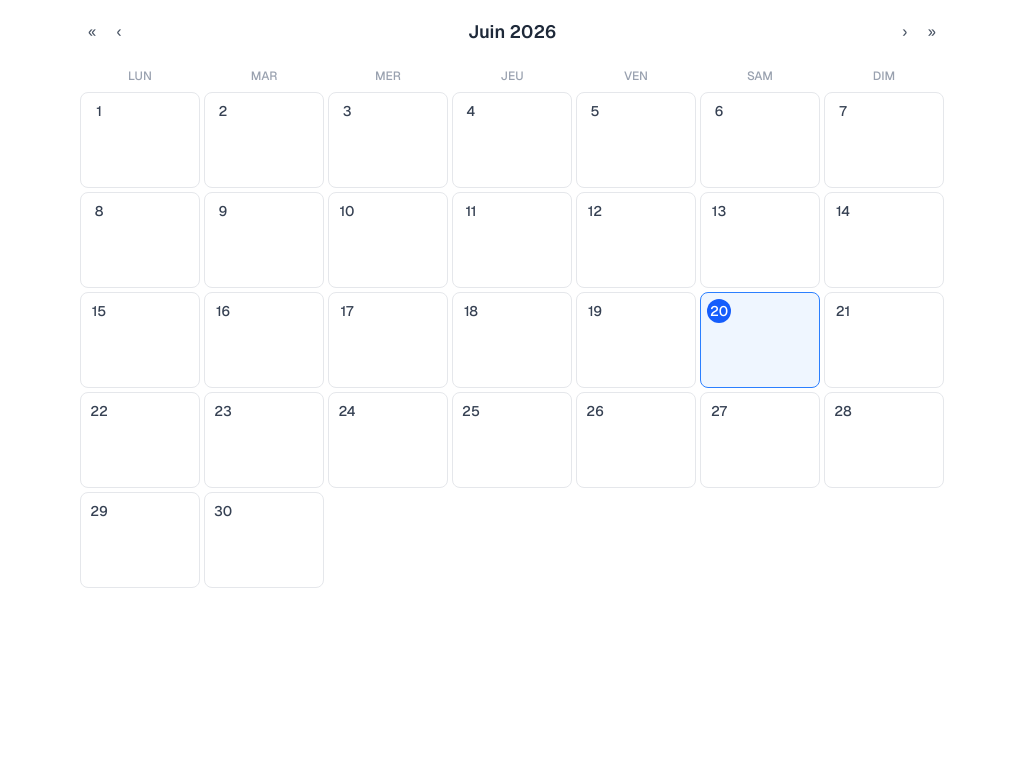
Test case: Calendar › opens the modal when a day is clicked
Step 1. Click the button "1" → coordinates (140, 140), box left=80, top=92, right=200, bottom=188
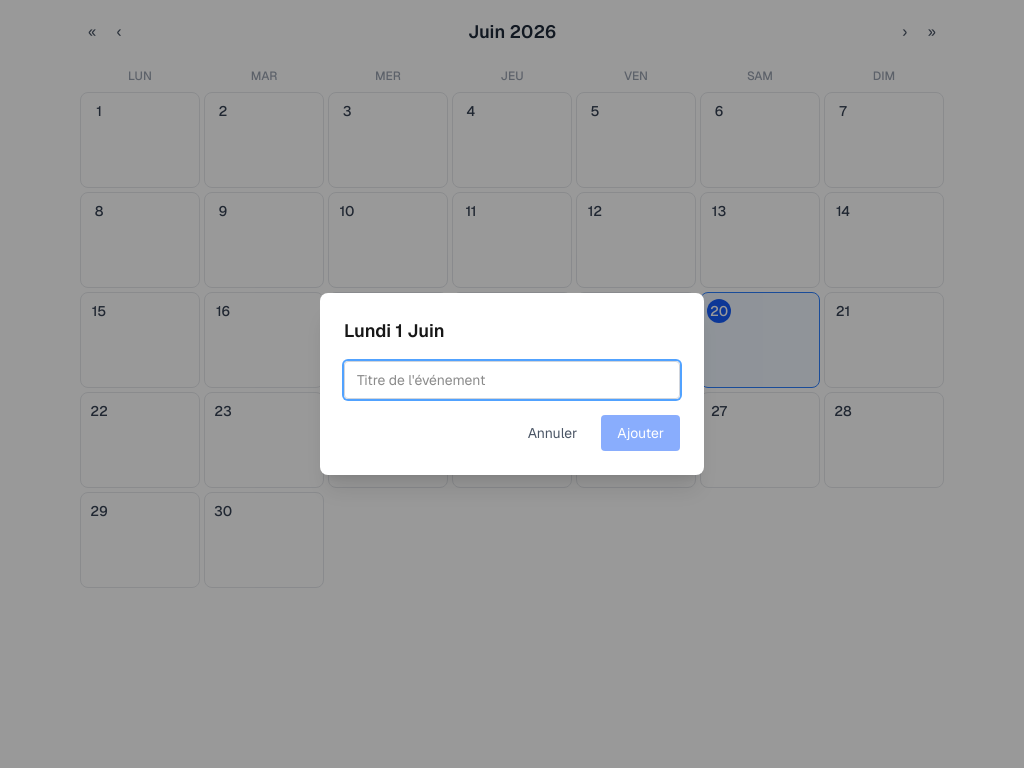
Check: the dialog is shown, box left=320, top=293, right=704, bottom=475
